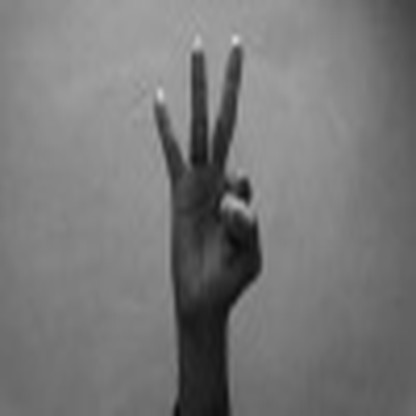f: (134, 30, 276, 310)
